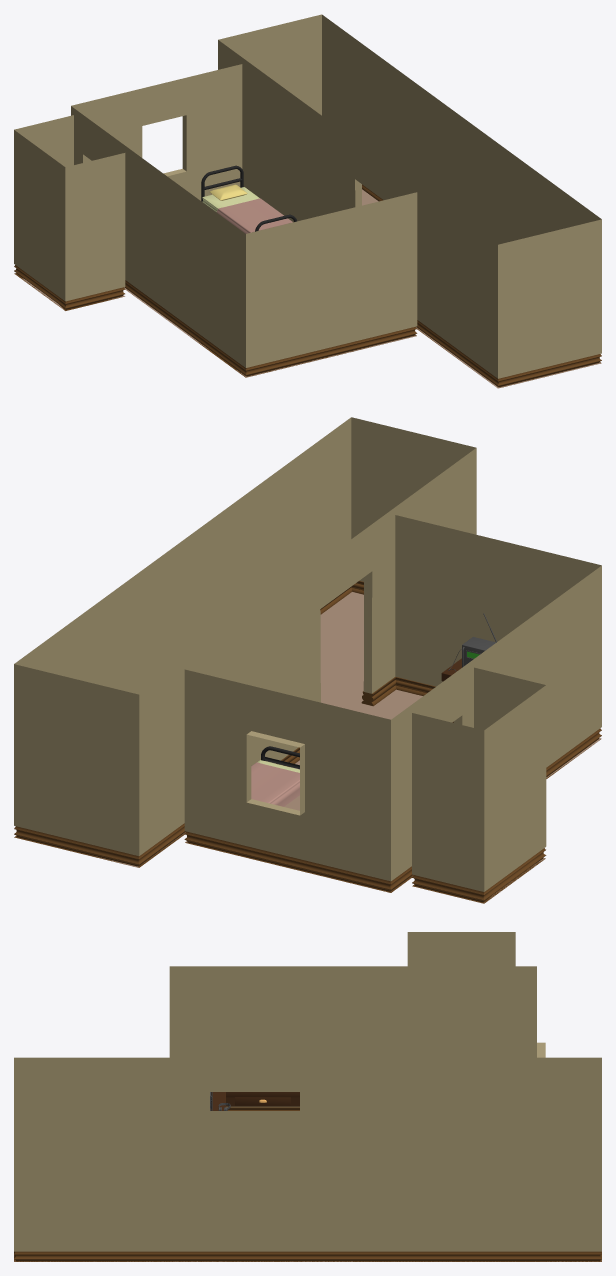
The model's file is shittyroom2.fbx.
3 views of the same model, one above another, from view 1: azimuth 30°, elevation 25°; view 2: azimuth 150°, elevation 25°; view 3: azimuth 270°, elevation 25° (orthographic). The views are drawn at different scales.
Visible parts, largest first — view 1: Plane, Cylinder, Plane.001; view 2: Plane, Plane.001, Cylinder, Cylinder.007; view 3: Plane, Cube.001.
Boxes of the visible parts, x1,y1,x2,y2 form: Plane: [14, 14, 601, 387]; Cylinder: [201, 165, 296, 233]; Plane.001: [22, 189, 601, 388]; Plane: [14, 417, 601, 903]; Plane.001: [96, 592, 601, 902]; Cylinder: [251, 746, 299, 806]; Cylinder.007: [448, 613, 496, 671]; Plane: [14, 932, 601, 1261]; Cube.001: [210, 1092, 299, 1110].
Bounding box in the file's own units: 6.86 × 2.7 × 9.53.
